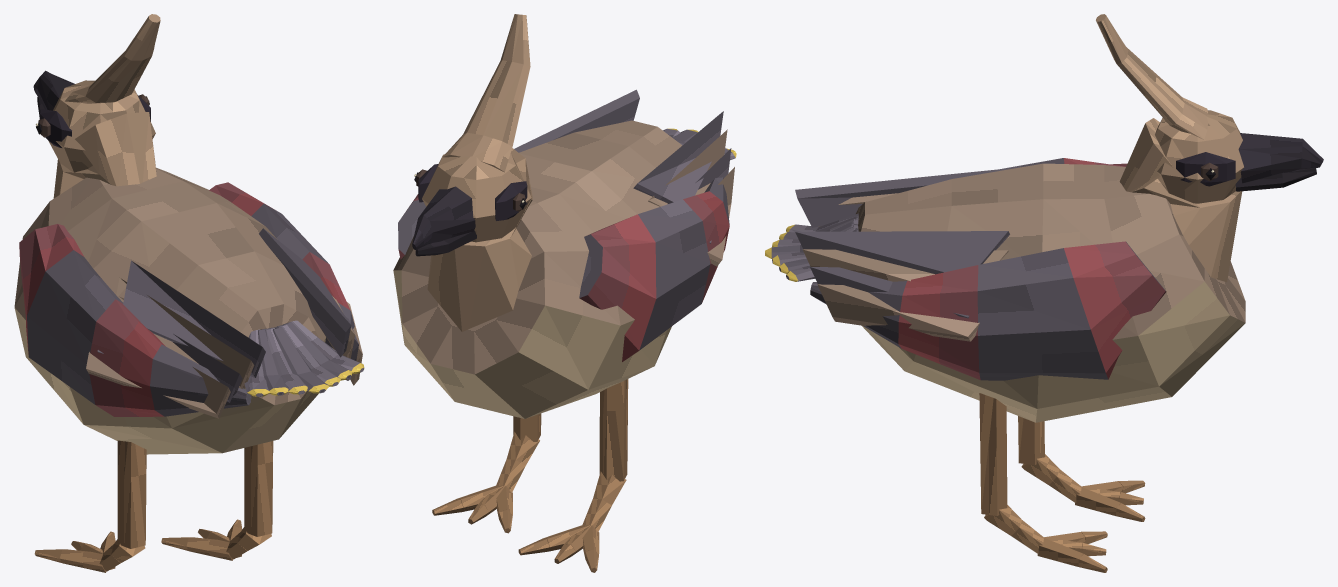
Rendered from mon_waxwing.glb.
The picture shows the model from 3 angles, left to right: view 1: azimuth 30°, elevation 25°; view 2: azimuth 150°, elevation 25°; view 3: azimuth 270°, elevation 25°; orthographic projection. The views are drawn at different scales.
Visible parts, largest first — view 1: closed_body; view 2: closed_body; view 3: closed_body.
Part boxes in pixels (bbox=[...]): closed_body: bbox=[14, 14, 364, 572]; closed_body: bbox=[393, 14, 736, 572]; closed_body: bbox=[765, 14, 1323, 572].
Size of the model in its own units: 0.0525 by 0.1013 by 0.099.
Materials: 1 (1 with a texture image).
